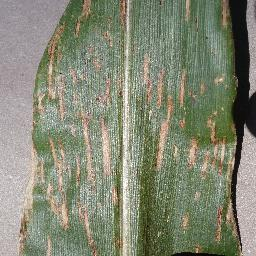Gray_Leaf_Spot: (16, 0, 130, 256), (187, 69, 244, 256), (139, 52, 186, 256), (219, 0, 237, 36), (181, 0, 195, 29)
